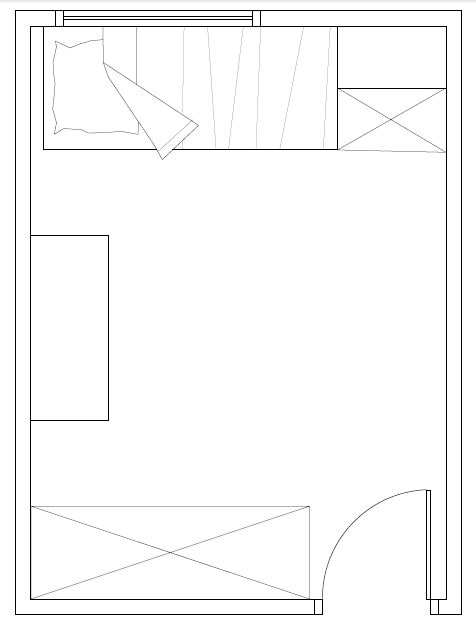door: (319, 470, 438, 599)
wall: (447, 6, 469, 627), (9, 99, 32, 581)
window: (51, 5, 265, 28)
